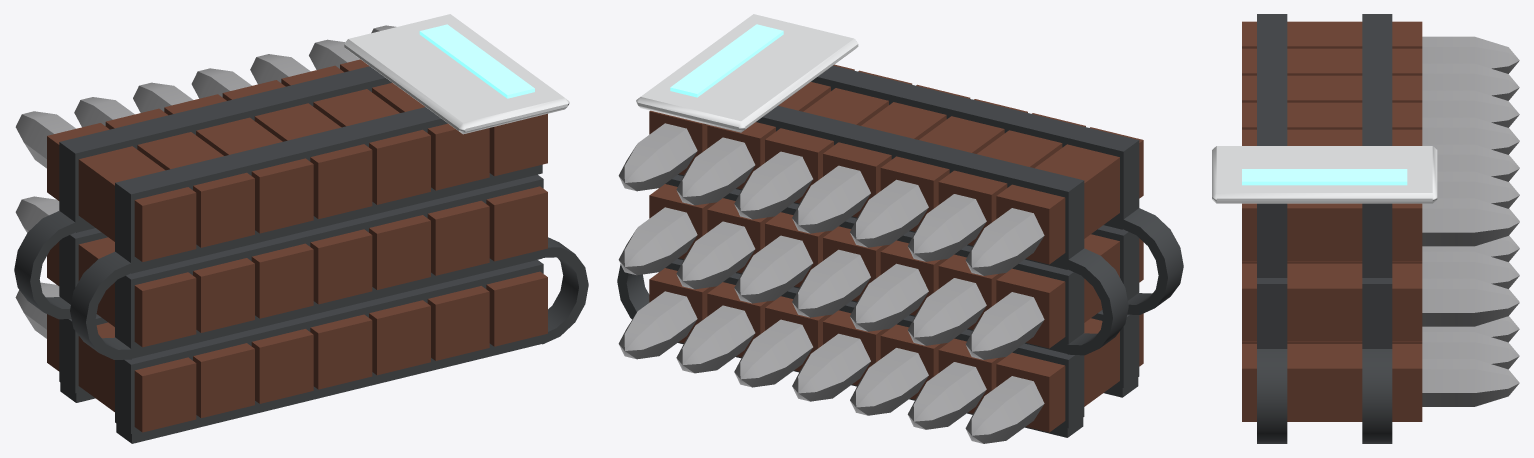
The model's file is robot_ammo_belt.glb.
The picture shows the model from 3 angles, left to right: view 1: azimuth 30°, elevation 25°; view 2: azimuth 150°, elevation 25°; view 3: azimuth 270°, elevation 25°; orthographic projection. The views are drawn at different scales.
Parts seen in each view (by area): view 1: body; view 2: body; view 3: body.
Part boxes in pixels (<box>): body: <box>14,14,588,443</box>; body: <box>617,14,1183,443</box>; body: <box>1212,14,1519,443</box>.
Size of the model in its own units: 0.0729 by 0.0368 by 0.041.
